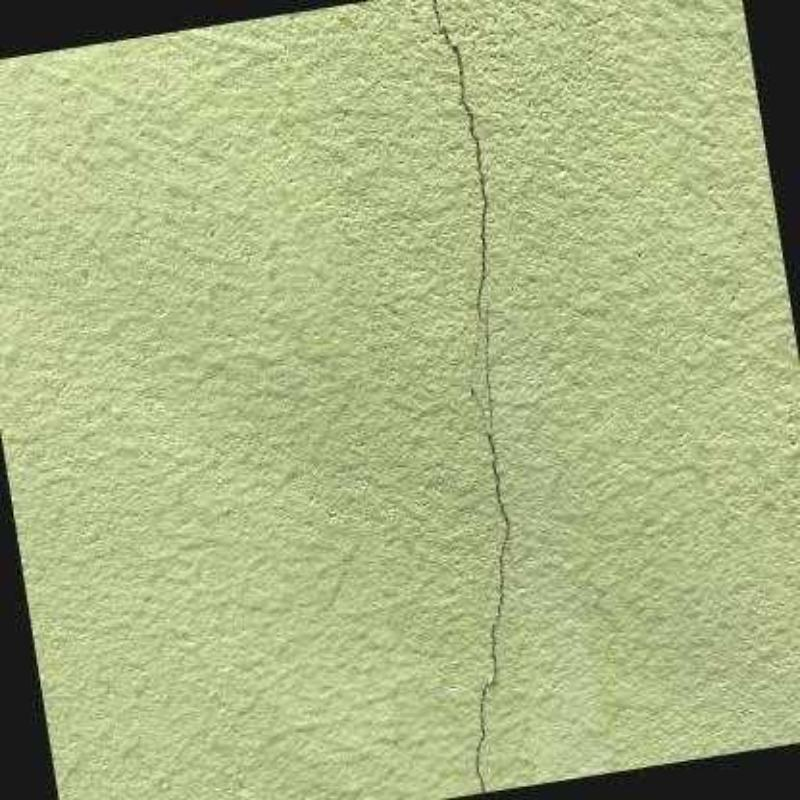pothole: (430, 0, 488, 370), (467, 296, 510, 792)
